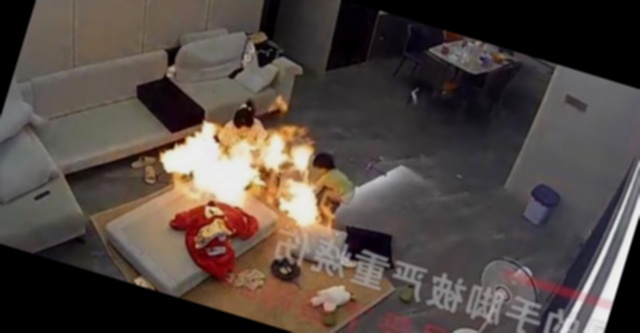fire: (144, 83, 355, 251)
